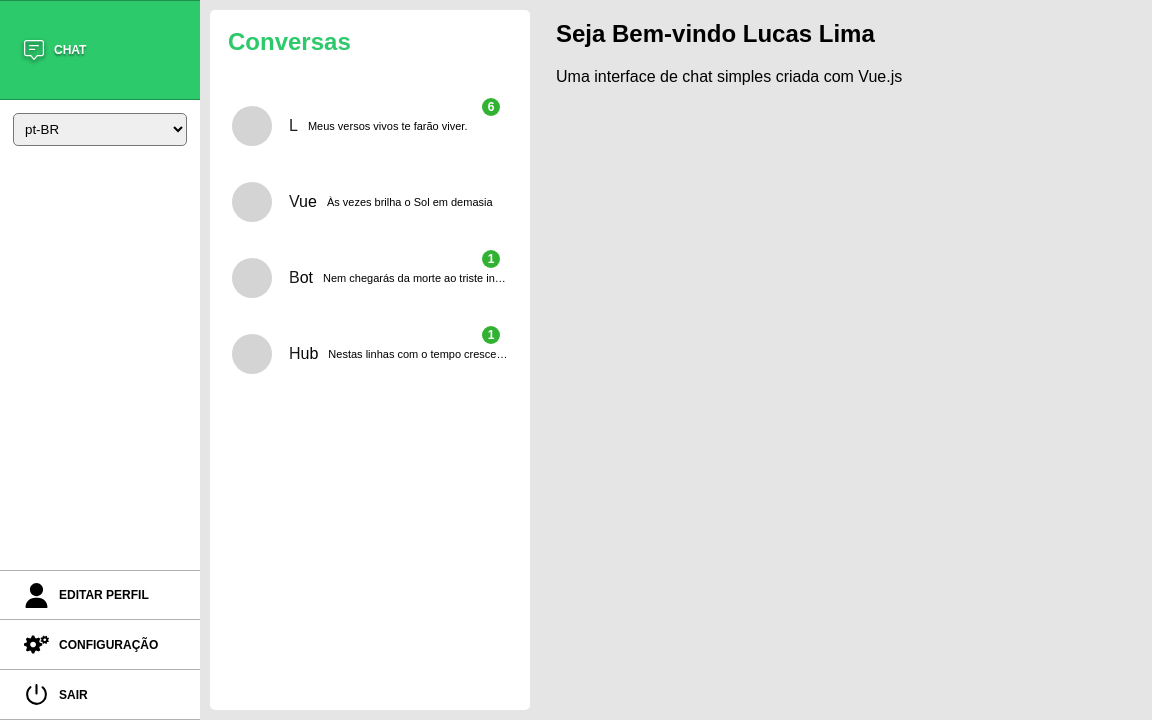
Test: Validar Textos menu e Bem-vindo › Welcome
Step 1. Select "en-US" in the dropdown with class "languages" → (100, 129), box [13, 113, 186, 145]
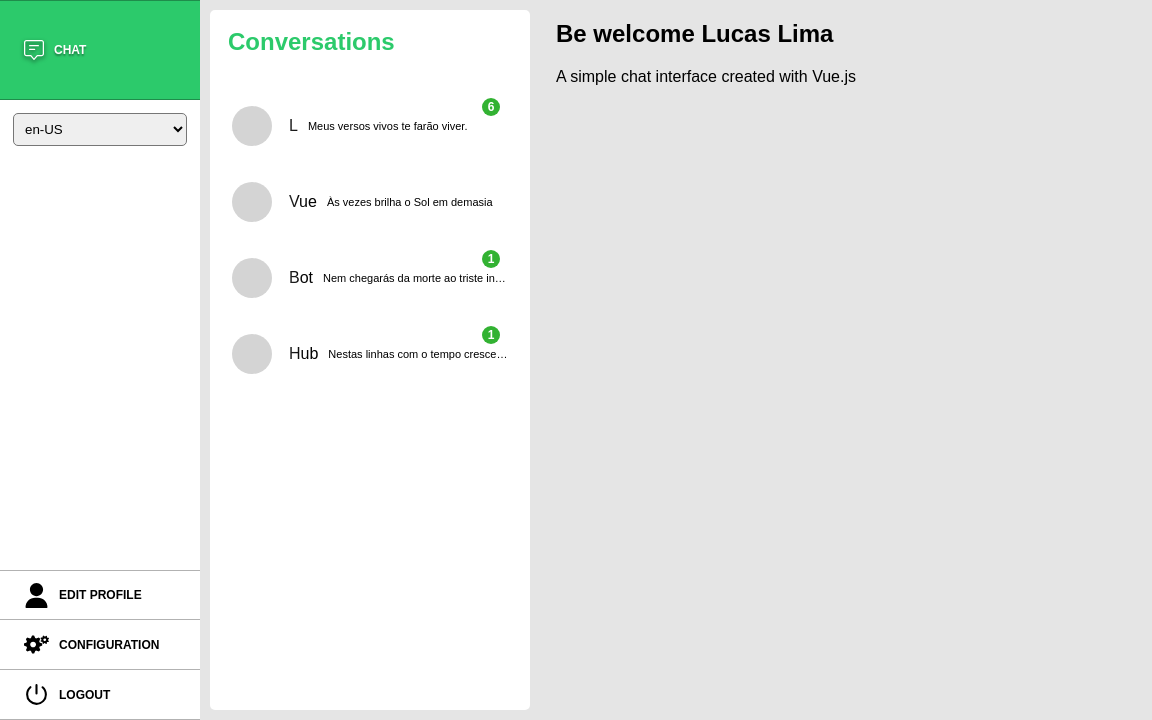
Check: the button "Edit profile" is shown, box [0, 570, 200, 620]
Check: the button "Configuration" is shown, box [0, 620, 200, 670]
Check: the button "Logout" is shown, box [0, 670, 200, 719]
